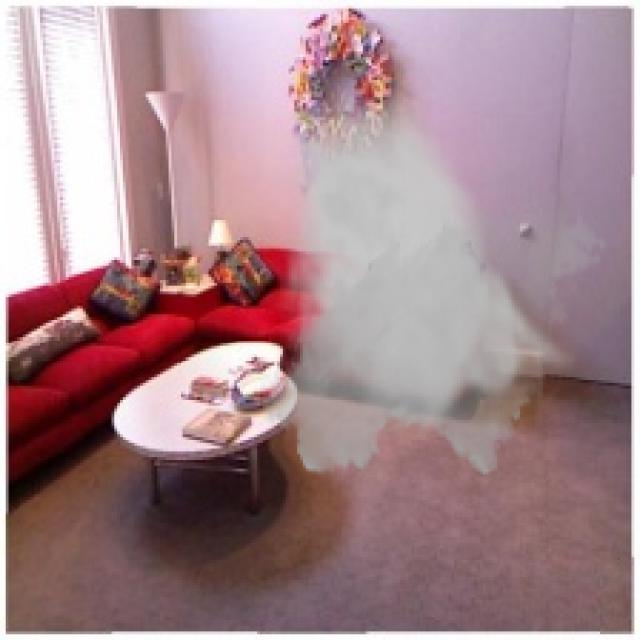smoke: (252, 74, 608, 486)
